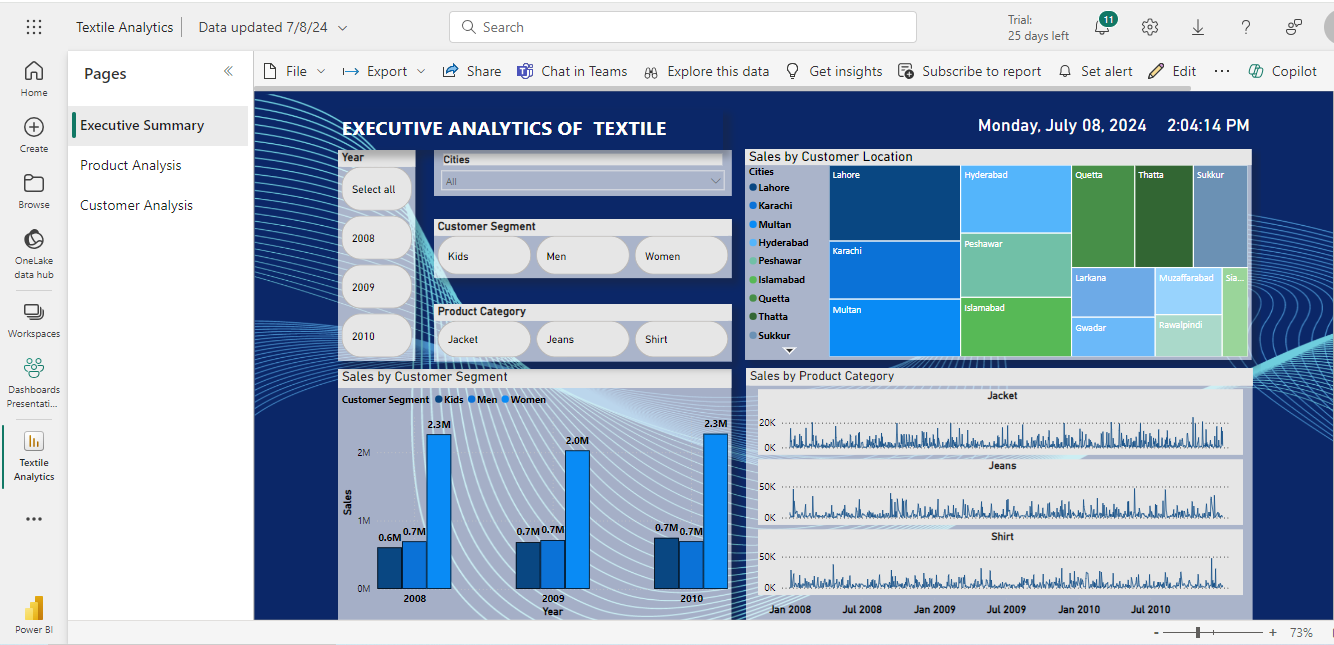

The page's visual inventory and layout, read from the dashboard file:
{"tool":"powerbi","page":{"name":"Executive Summary","canvas":[1280,720],"ordinal":0},"visuals":[{"type":"treemap","title":"Sales by Customer Location","fields":{"Values":["Sum(Sheet1 (Textile)_Migrated Data.Sales)"],"Group":["Sheet1 (Textile)_Migrated Data.Cities"]},"box":[574.6,66.2,694.1,289.4],"z":0},{"type":"areaChart","title":"Sales by Product Category","fields":{"Rows":["Sheet1 (Textile)_Migrated Data.Product 1 - Category"],"Y":["Sum(Sheet1 (Textile)_Migrated Data.Sales)"],"Category":["Sheet1 (Textile)_Migrated Data.Order Date"]},"box":[574.7,365.2,693.8,345.6],"z":1000},{"type":"clusteredColumnChart","title":"Sales by Customer Segment","fields":{"Category":["Sheet1 (Textile)_Migrated Data.Order Date.Variation.Date Hierarchy.Year"],"Y":["Sum(Sheet1 (Textile)_Migrated Data.Sales)"],"Series":["Sheet1 (Textile)_Migrated Data.Customer Segment"]},"box":[17,366.5,539.3,345.6],"z":2000},{"type":"slicer","fields":{"Values":["Sheet1 (Textile)_Migrated Data.Cities"]},"box":[147.9,66.8,408.4,62.8],"z":3000},{"type":"advancedSlicerVisual","fields":{"Values":["Sheet1 (Textile)_Migrated Data.Order Date.Variation.Date Hierarchy.Year"]},"box":[17,66.8,106,289.3],"z":4000},{"type":"advancedSlicerVisual","fields":{"Values":["Sheet1 (Textile)_Migrated Data.Customer Segment"]},"box":[147.9,161,408.4,81.2],"z":5000},{"type":"textbox","box":[17,11.8,527.6,55],"z":6000},{"type":"advancedSlicerVisual","title":"Product Category","fields":{"Values":["Sheet1 (Textile)_Migrated Data.Product 1 - Category"]},"box":[147.9,277.5,408.4,78.5],"z":7000},{"type":"cardVisual","fields":{"Data":["Sheet1 (Textile)_Migrated Data.Today"]},"box":[816.9,0,302.4,55],"z":8000},{"type":"cardVisual","fields":{"Data":["Sheet1 (Textile)_Migrated Data.time"]},"box":[1119.3,0,149.2,55],"z":9000}]}

Visuals, with their boxes on the page's 1280x720 design canvas (x1, y1, x2, y2). These are canvas units, not pixel positions in the 1334x645 screenshot, which may show the page scaled, cropped or inside an application window:
"Sales by Customer Location" treemap: region(575, 66, 1269, 356)
"Sales by Product Category" areaChart: region(575, 365, 1268, 711)
"Sales by Customer Segment" clusteredColumnChart: region(17, 366, 556, 712)
slicer - Sheet1 (Textile)_Migrated Data.Cities: region(148, 67, 556, 130)
advancedSlicerVisual - Sheet1 (Textile)_Migrated Data.Order Date.Variation.Date Hierarchy.Year: region(17, 67, 123, 356)
advancedSlicerVisual - Sheet1 (Textile)_Migrated Data.Customer Segment: region(148, 161, 556, 242)
textbox: region(17, 12, 545, 67)
"Product Category" advancedSlicerVisual: region(148, 278, 556, 356)
cardVisual - Sheet1 (Textile)_Migrated Data.Today: region(817, 0, 1119, 55)
cardVisual - Sheet1 (Textile)_Migrated Data.time: region(1119, 0, 1268, 55)
